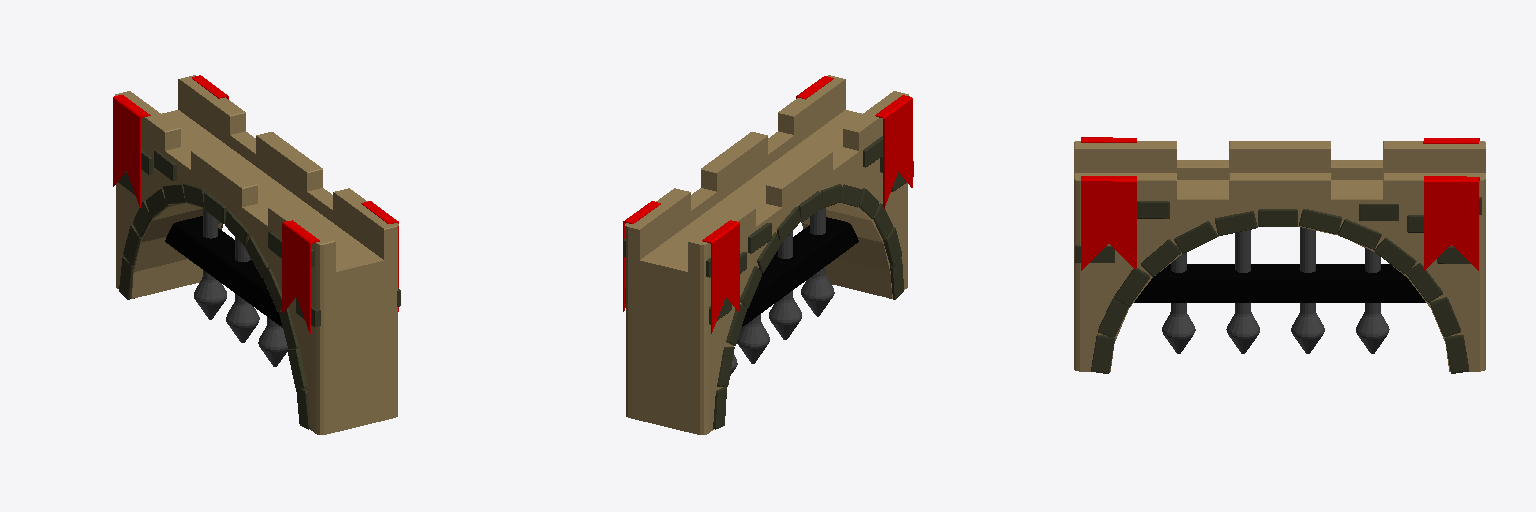
The model's file is Gate_Level2_RedTeam.obj.
3 renders of one model, left to right at view 1: azimuth 30°, elevation 25°; view 2: azimuth 150°, elevation 25°; view 3: azimuth 270°, elevation 25°, orthographic.
Visible parts, largest first — view 1: Gate_Level2_RedTeam_Cube.023; view 2: Gate_Level2_RedTeam_Cube.023; view 3: Gate_Level2_RedTeam_Cube.023.
Boxes of the visible parts, <box> form: Gate_Level2_RedTeam_Cube.023: <box>113,75,400,434</box>; Gate_Level2_RedTeam_Cube.023: <box>623,75,913,434</box>; Gate_Level2_RedTeam_Cube.023: <box>1074,137,1485,373</box>.
Bounding box in the file's own units: 9.55 × 19.51 × 37.53.